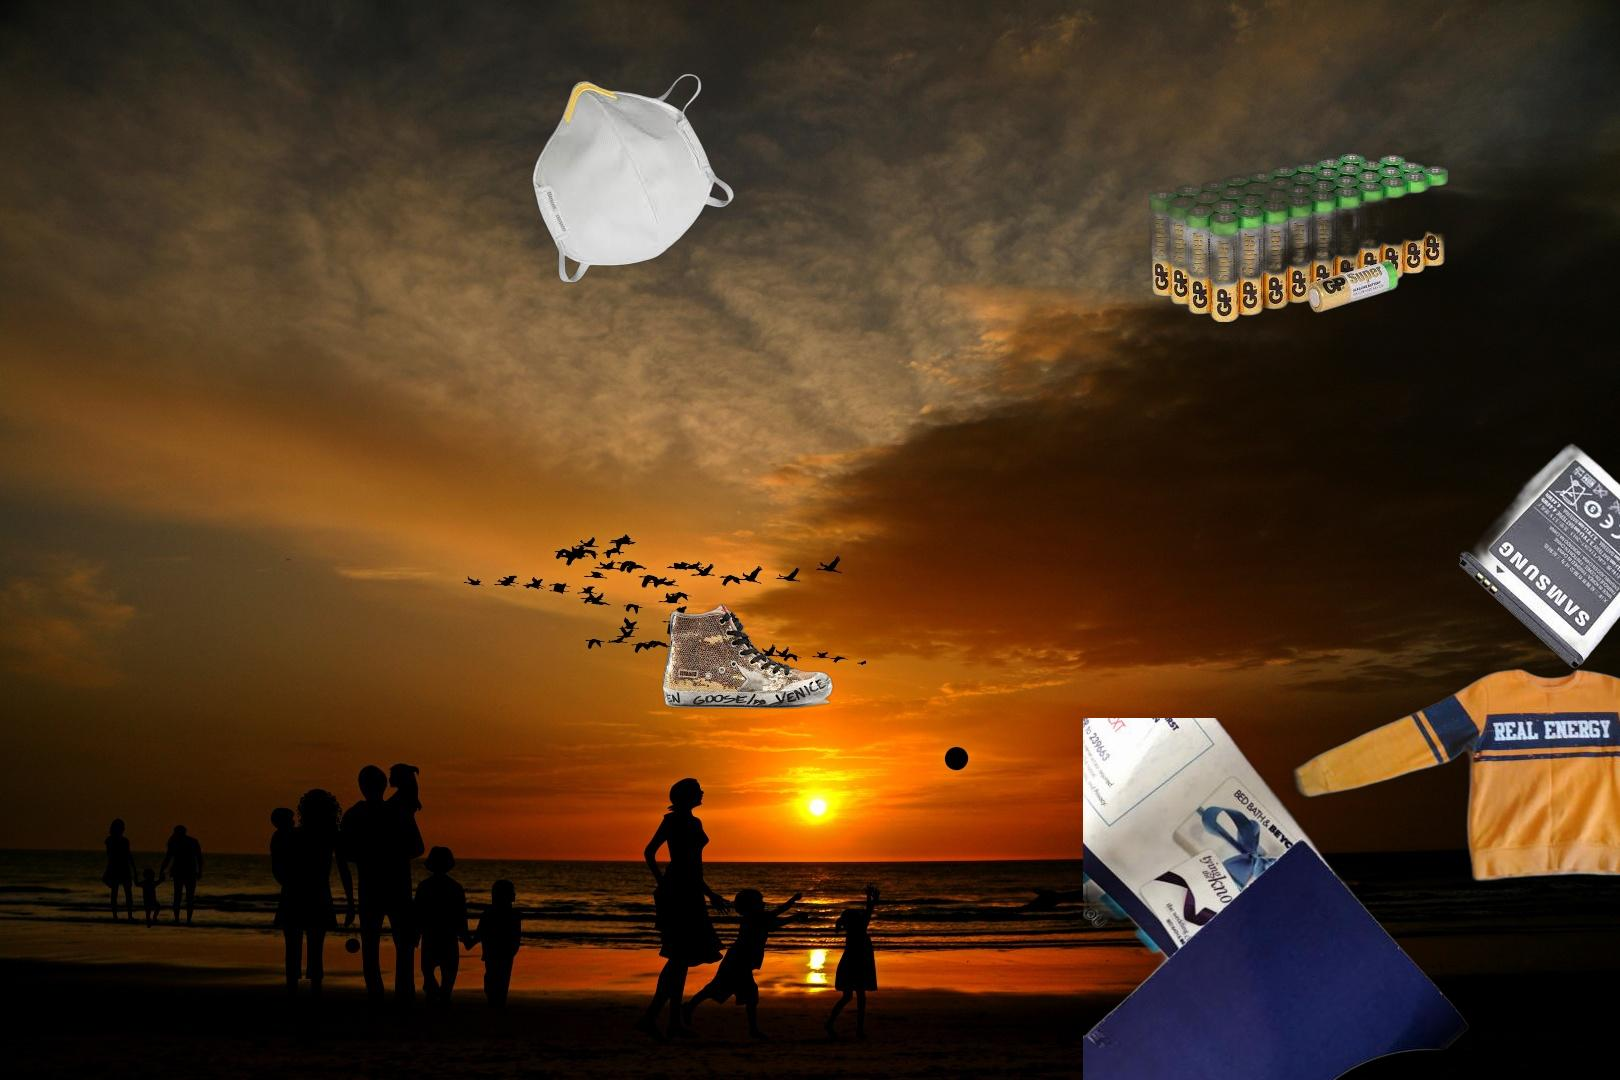battery: (1149, 153, 1448, 322), (1458, 442, 1620, 669)
clothes: (1286, 665, 1620, 899)
paper: (1082, 718, 1474, 1080)
shoes: (661, 601, 837, 711)
trash: (500, 72, 736, 284)
